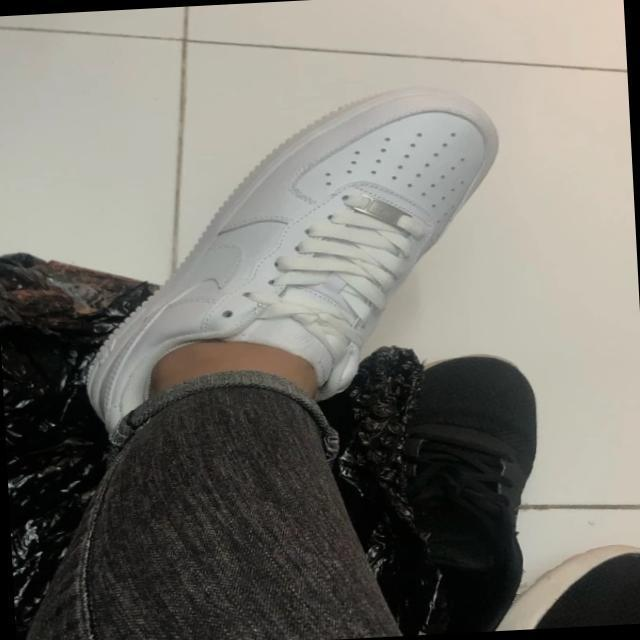nike original air force: (63, 78, 519, 483)
